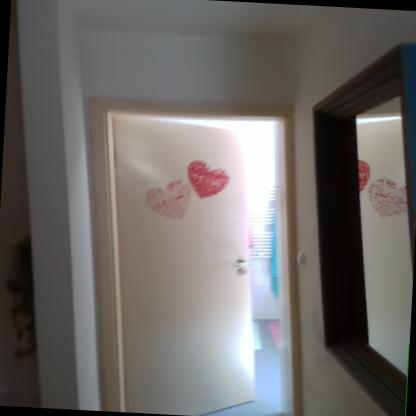semi: (58, 76, 328, 416)
